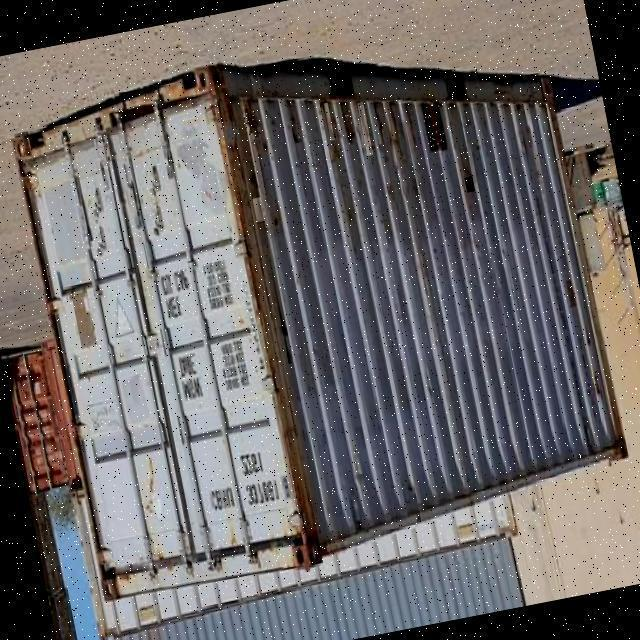rust: (422, 102, 449, 154), (359, 103, 375, 157), (244, 105, 264, 141), (343, 109, 357, 147), (325, 104, 336, 142), (254, 198, 266, 223), (466, 178, 477, 194), (294, 128, 303, 145)
